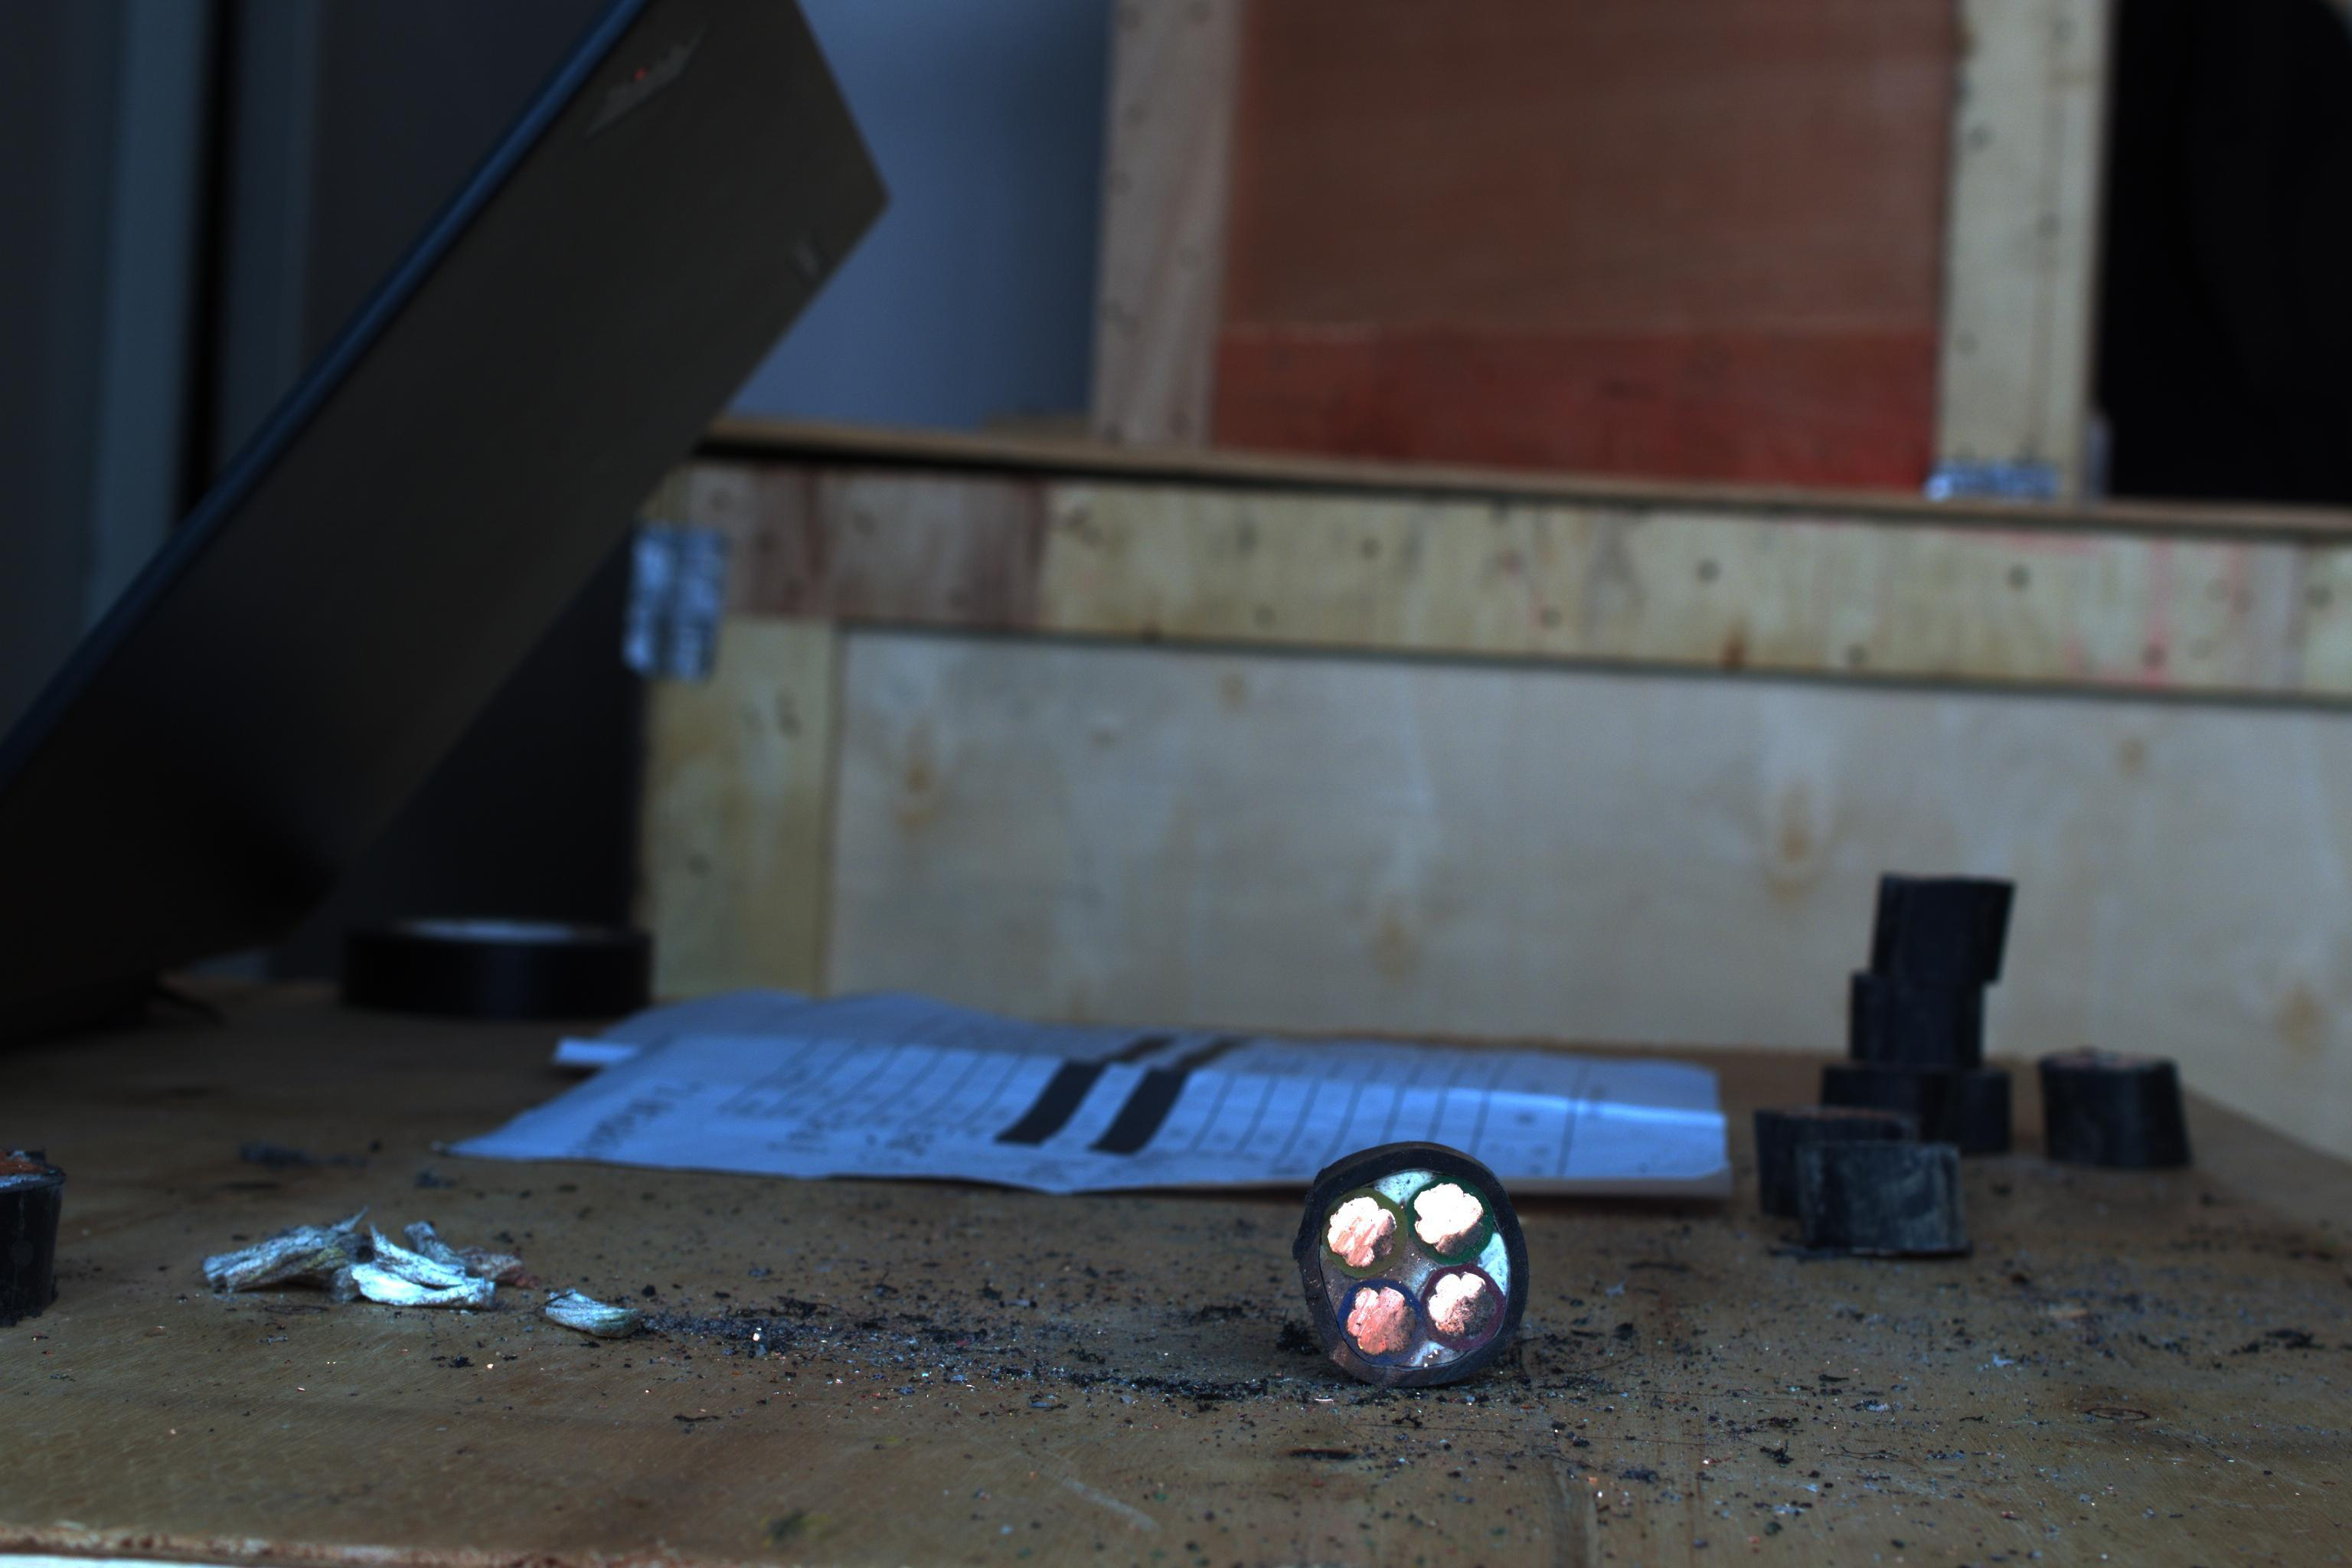YJV_0.6_1kV_4x35: (1297, 1150, 1522, 1377)
